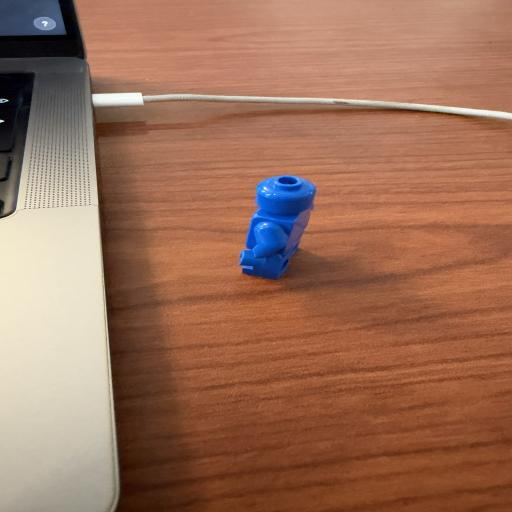Minifig: (238, 174, 318, 280)
